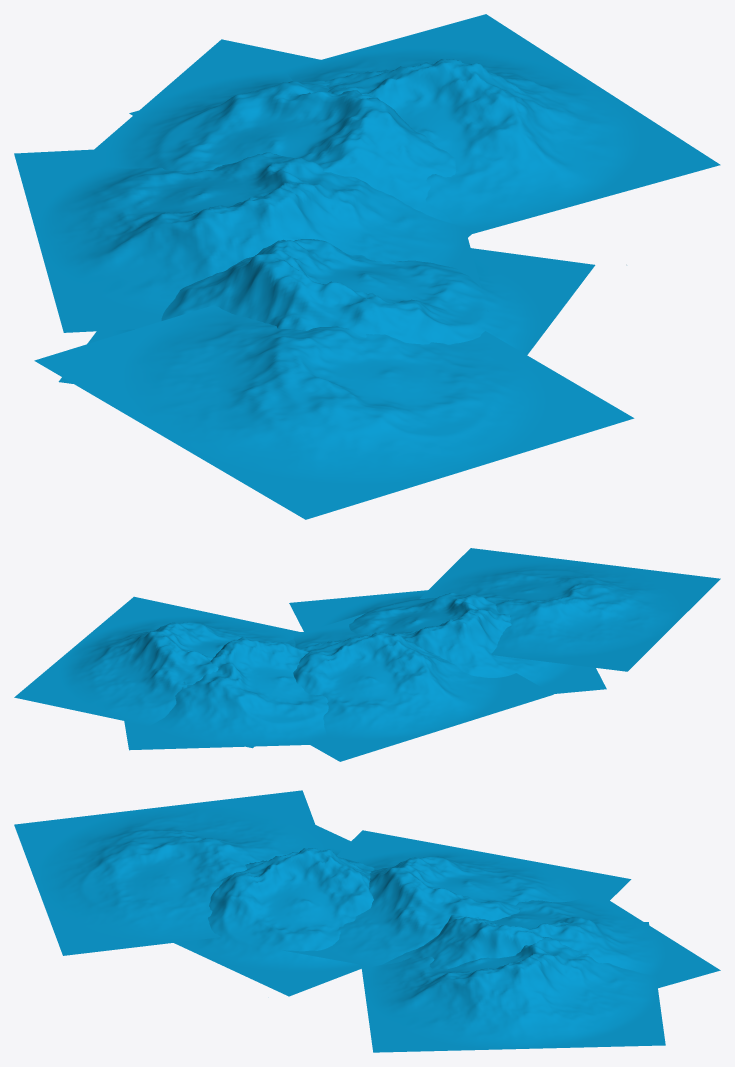
File: Pathway_Landscape.fbx
3 renders of one model, top to bottom at view 1: azimuth 30°, elevation 25°; view 2: azimuth 150°, elevation 25°; view 3: azimuth 270°, elevation 25°, orthographic. The views are drawn at different scales.
Visible parts, largest first — view 1: Plane.008; view 2: Plane.008; view 3: Plane.008.
Part boxes in pixels (bbox=[...]): Plane.008: bbox=[14, 14, 720, 519]; Plane.008: bbox=[14, 548, 720, 761]; Plane.008: bbox=[14, 790, 720, 1052].
Bounding box in the file's own units: 338303 × 30928 × 409164.
